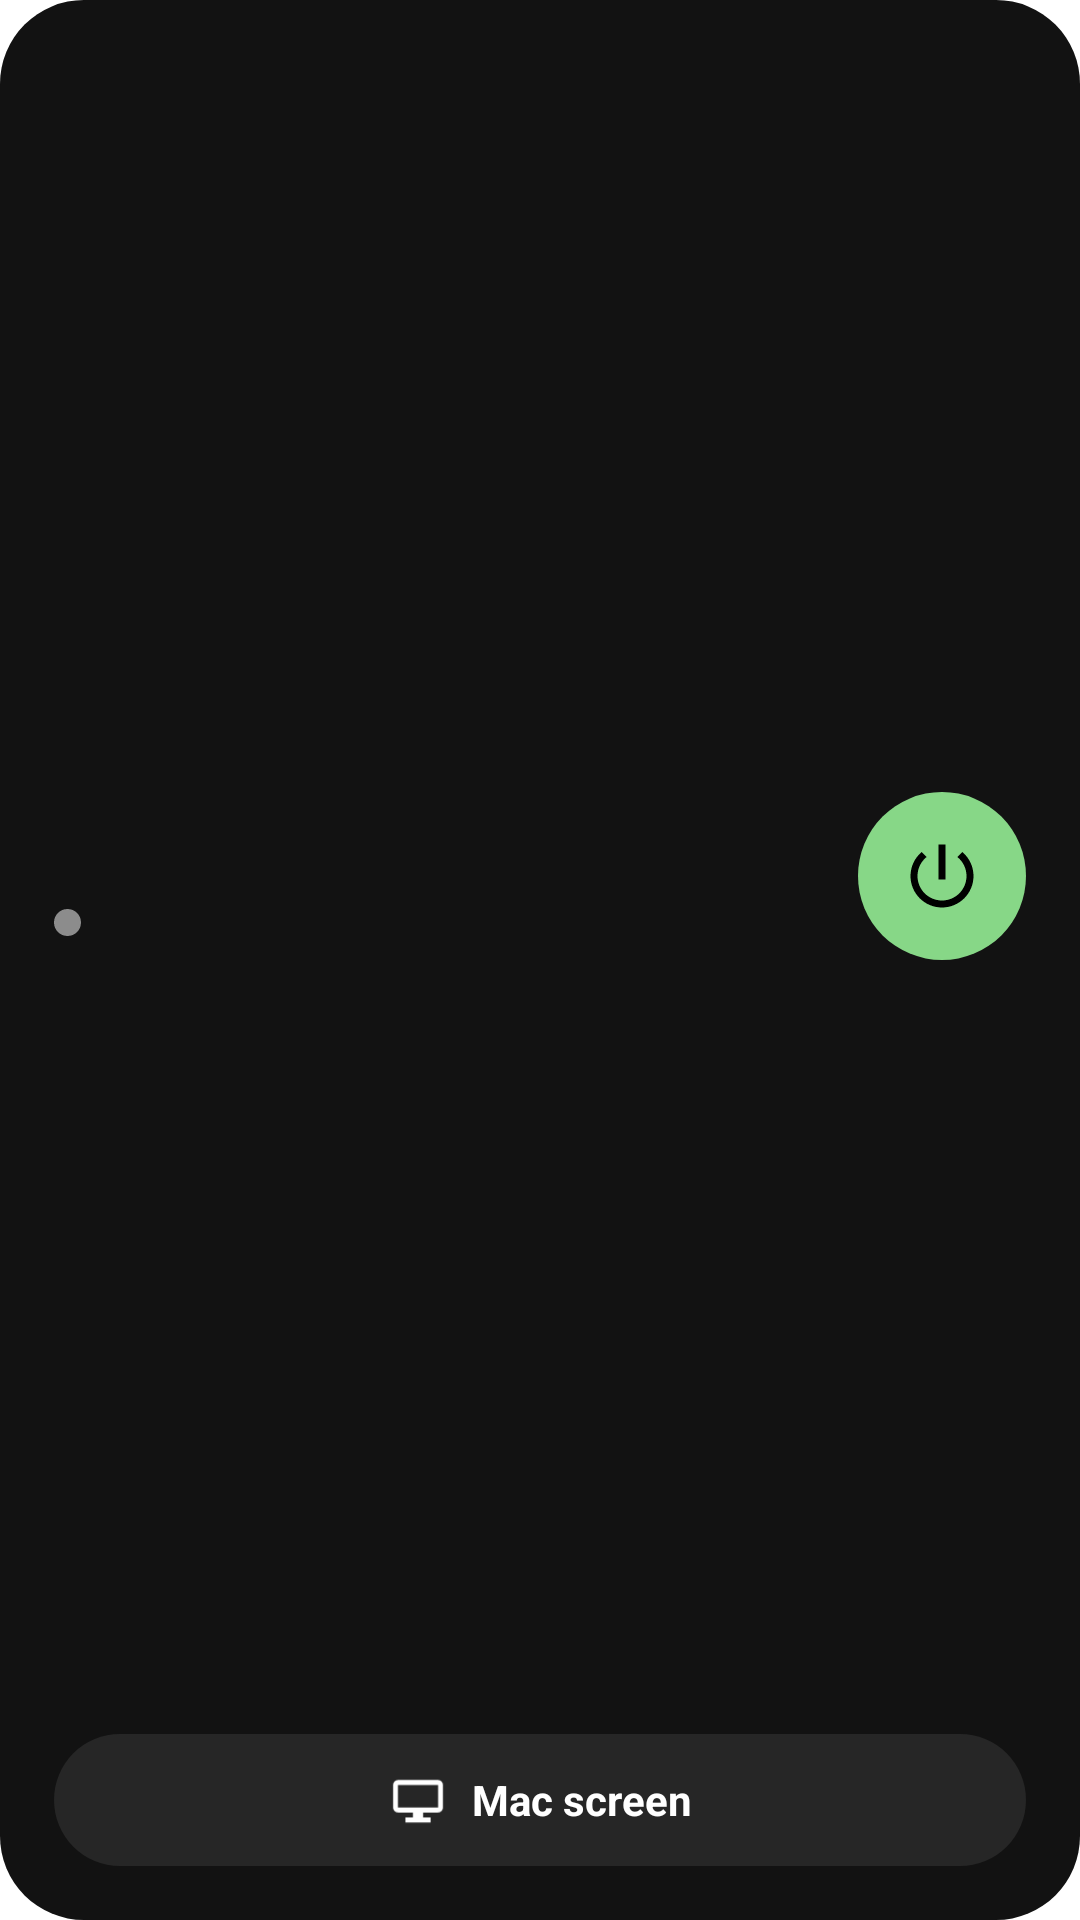

Icon click points for this 1080 × 1920 phone screenshot, format [x,y]:
Andromac connection: [942,876]
tile screen: [418,1801]
